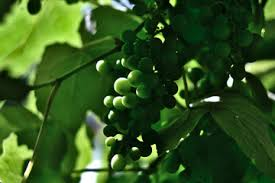grapes: (109, 28, 166, 141)
